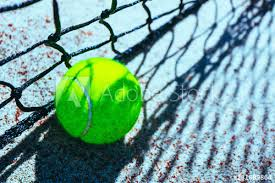tennis_ball: (54, 57, 143, 146)
